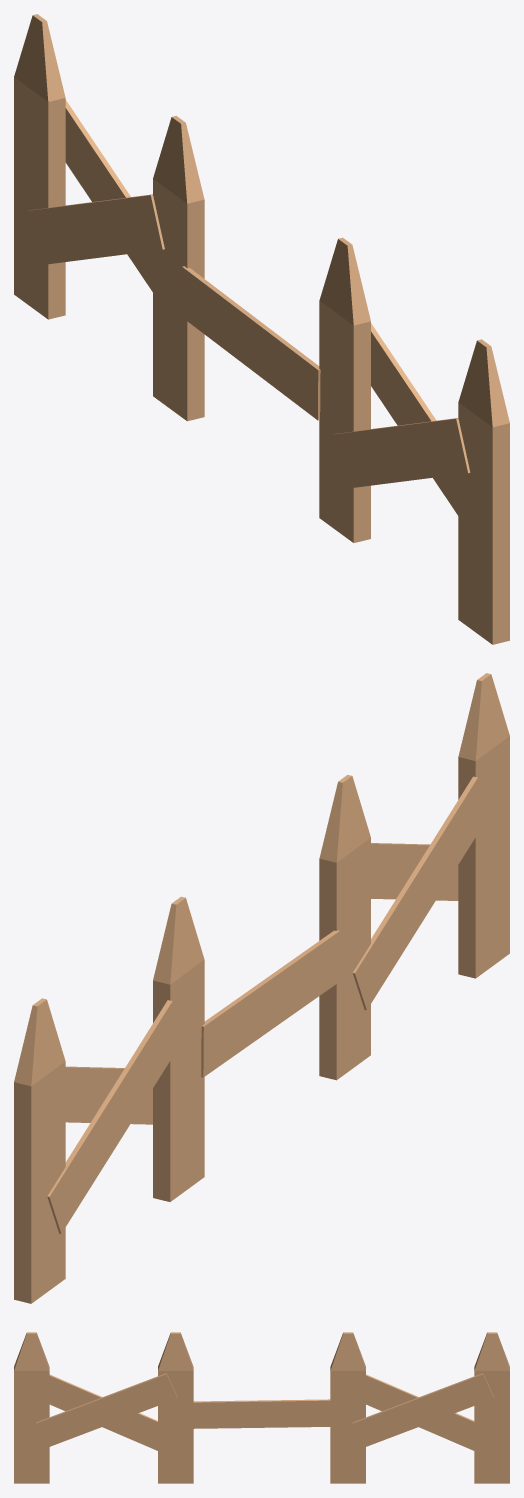
Rendered from Fence.fbx.
The picture shows the model from 3 angles, top to bottom: view 1: azimuth 30°, elevation 25°; view 2: azimuth 150°, elevation 25°; view 3: azimuth 270°, elevation 25°; orthographic projection. The views are drawn at different scales.
Visible parts, largest first — view 1: Fence; view 2: Fence; view 3: Fence.
Part boxes in pixels (x1,y1,x2,y2): Fence: (14,14,509,644); Fence: (14,673,509,1303); Fence: (14,1332,509,1483).
Bounding box in the file's own units: 5.69 × 63.56 × 192.
